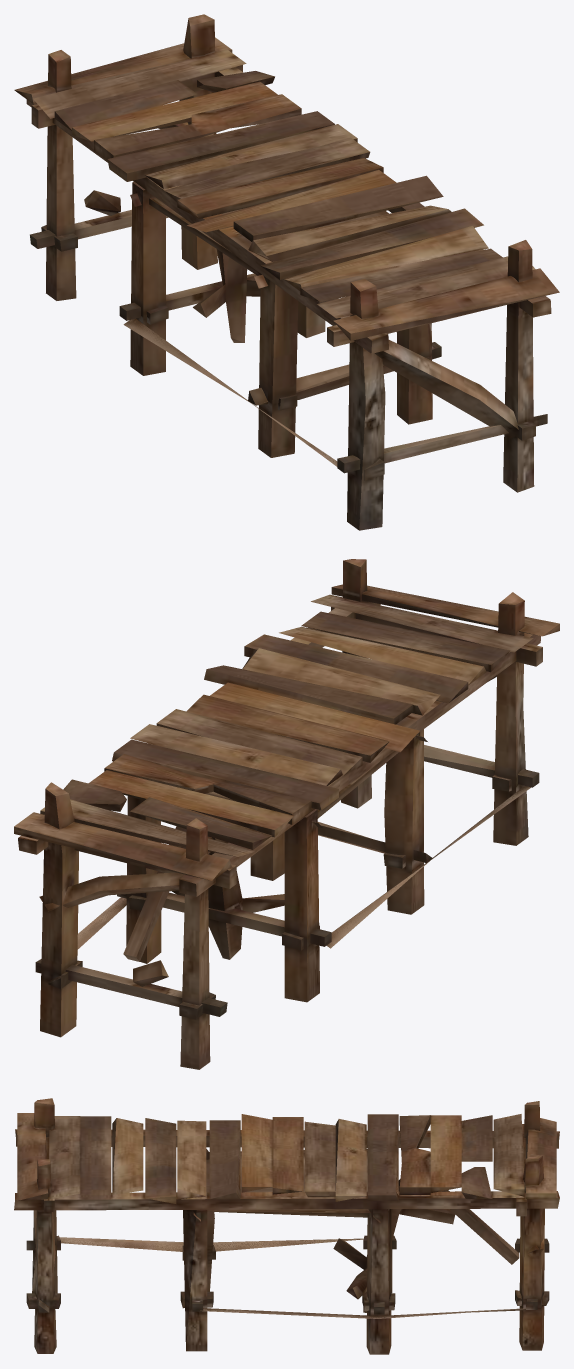
Rendered from jetty-weathered.glb.
3 views of the same model, one above another, from view 1: azimuth 30°, elevation 25°; view 2: azimuth 150°, elevation 25°; view 3: azimuth 270°, elevation 25° (orthographic). The views are drawn at different scales.
Visible parts, largest first — view 1: tripo_node_2b9f9aa2-7416-4d03-8cf0-8d524c508034.001; view 2: tripo_node_2b9f9aa2-7416-4d03-8cf0-8d524c508034.001; view 3: tripo_node_2b9f9aa2-7416-4d03-8cf0-8d524c508034.001.
Part boxes in pixels (x1,y1,x2,y2): tripo_node_2b9f9aa2-7416-4d03-8cf0-8d524c508034.001: (14, 14, 559, 530); tripo_node_2b9f9aa2-7416-4d03-8cf0-8d524c508034.001: (14, 559, 559, 1069); tripo_node_2b9f9aa2-7416-4d03-8cf0-8d524c508034.001: (14, 1098, 559, 1354).
Bounding box in the file's own units: 0.3613 × 0.3848 × 0.998.
1 material, 1 textured.
